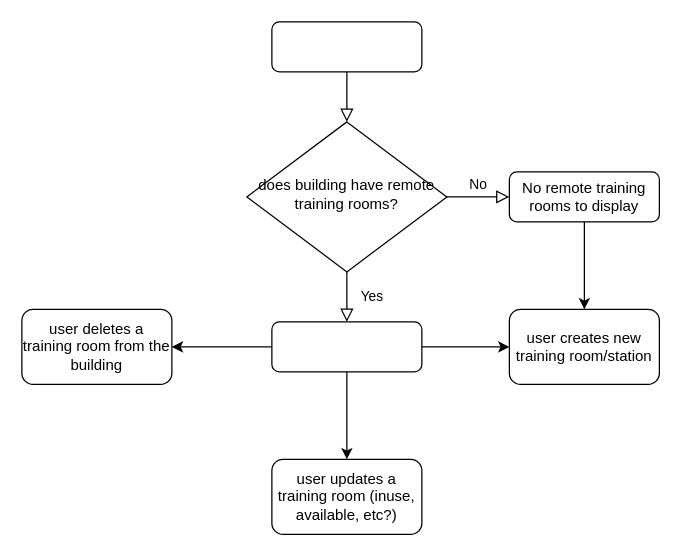
Image size: 681x556. Some labels were removed from this diagram. Here are the shapes that lost their labels. From the top down, the centre of each, then its label:
At [346,46]: "User selects a building".
At [346,346]: "Display all remote training station/rooms".
